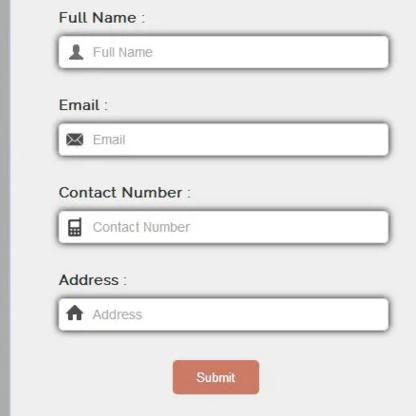button: (171, 358, 265, 395)
field: (54, 118, 394, 162), (54, 32, 396, 73), (56, 207, 392, 247), (55, 295, 396, 333)
